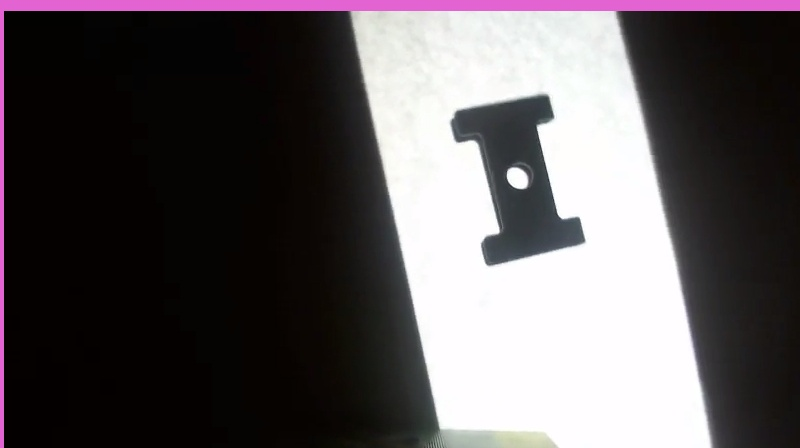O002: (447, 91, 588, 268)
